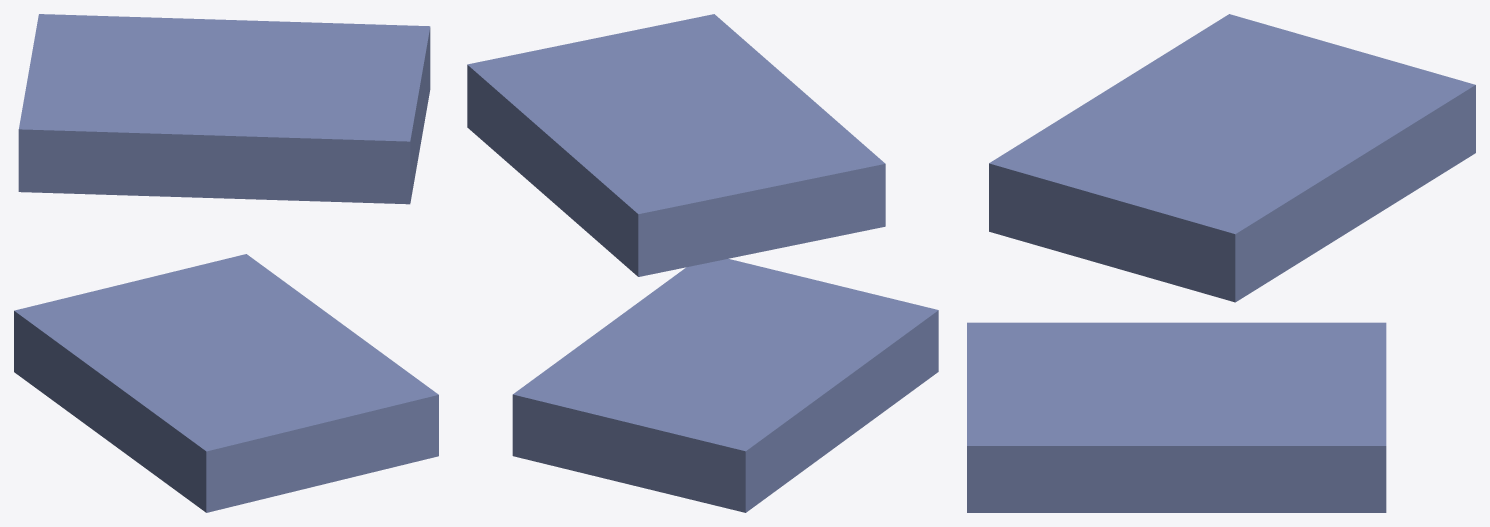
File: Book_Pile_03A_Lod0.fbx
The picture shows the model from 3 angles, left to right: view 1: azimuth 30°, elevation 25°; view 2: azimuth 150°, elevation 25°; view 3: azimuth 270°, elevation 25°; orthographic projection. The views are drawn at different scales.
Visible parts, largest first — view 1: Book_Pile_03A_Lod0; view 2: Book_Pile_03A_Lod0; view 3: Book_Pile_03A_Lod0.
Part boxes in pixels (x1,y1,x2,y2): Book_Pile_03A_Lod0: (14,14,438,512); Book_Pile_03A_Lod0: (467,14,938,512); Book_Pile_03A_Lod0: (967,14,1475,512).
Size of the model in its own units: 31.39 by 22.57 by 30.64.
